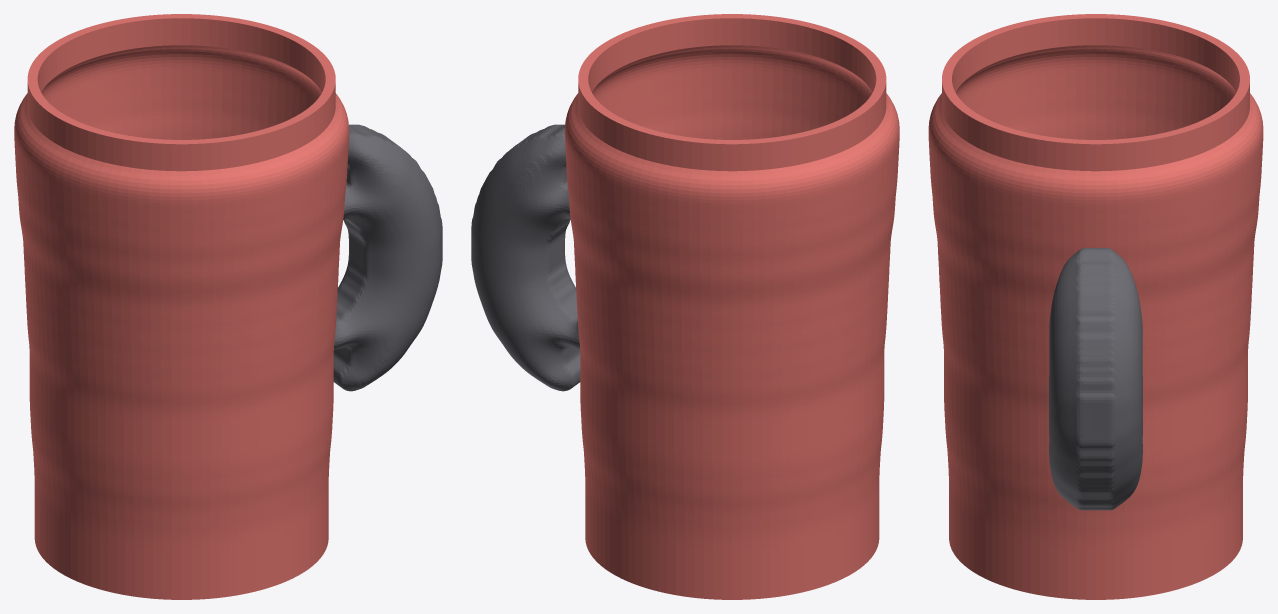
3 renders of one model, left to right at view 1: azimuth 30°, elevation 25°; view 2: azimuth 150°, elevation 25°; view 3: azimuth 270°, elevation 25°, orthographic.
Parts seen in each view (by area): view 1: part_1, part_0; view 2: part_1, part_0; view 3: part_1, part_0.
Boxes of the visible parts, <box> form: part_1: <box>14,14,349,599</box>; part_0: <box>333,124,442,391</box>; part_1: <box>564,14,899,599</box>; part_0: <box>471,124,580,391</box>; part_1: <box>928,14,1263,599</box>; part_0: <box>1049,248,1142,510</box>.
Bounding box in the file's own units: 0.9076 × 1 × 0.6618.
